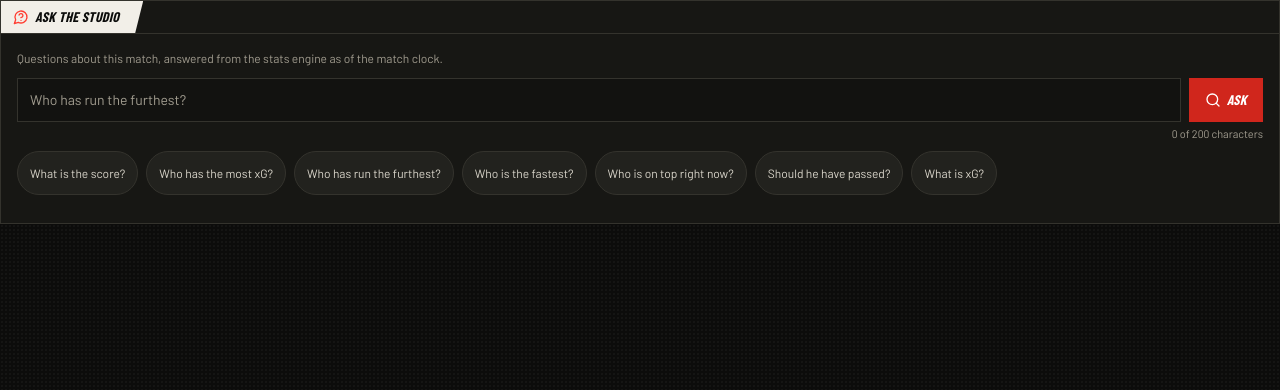
Test: AskStudio › renders answers as text, never as markup
The image size is (1280, 390).
Click the button "Who has the most xG?" at (216, 172), box [146, 150, 286, 194]
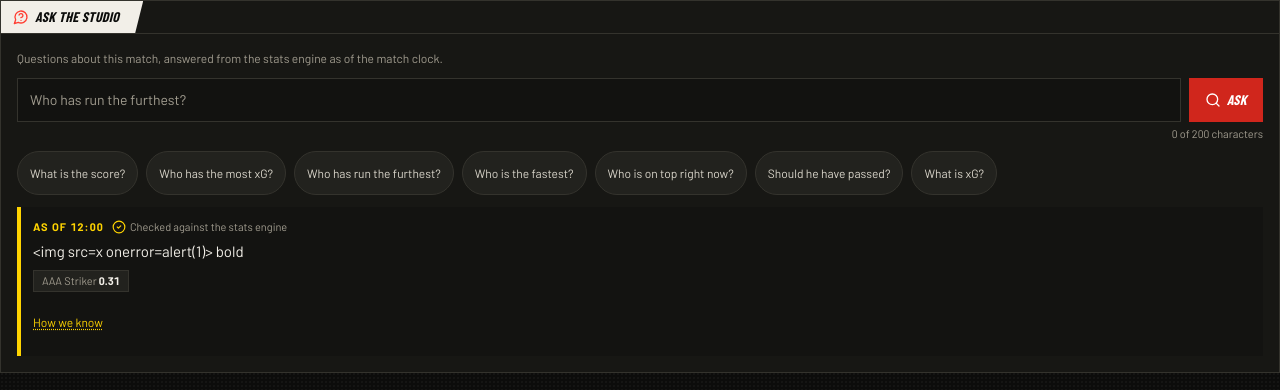
Check: the element with test id "ask-answer" is shown, box [17, 206, 1263, 356]
